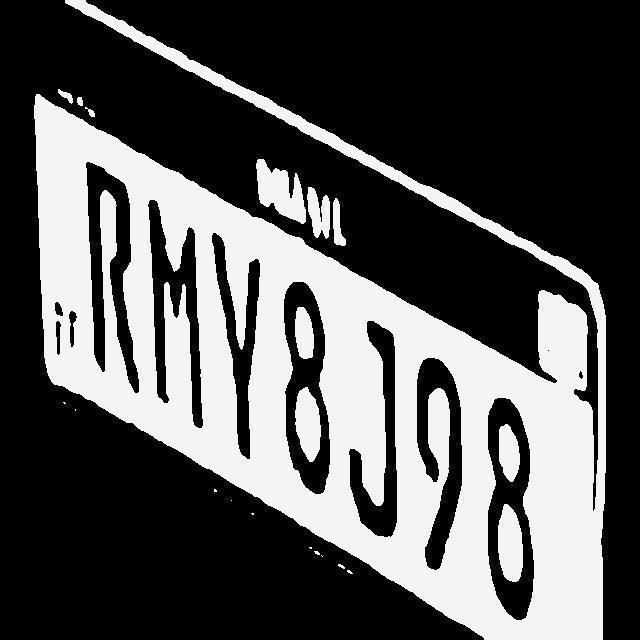8: (483, 394, 538, 622), (282, 276, 336, 506)
9: (412, 357, 468, 572)
j: (342, 315, 404, 540)
m: (145, 193, 206, 439)
r: (78, 158, 146, 398)
y: (211, 232, 265, 466)
